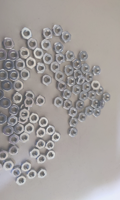nut: (6, 49, 19, 62), (2, 38, 15, 50), (20, 28, 33, 40), (19, 47, 31, 60), (9, 69, 21, 82), (3, 60, 15, 72), (26, 57, 37, 69), (42, 74, 53, 86), (24, 96, 35, 108), (8, 135, 20, 146), (21, 161, 32, 173), (37, 168, 48, 180), (28, 38, 38, 51), (21, 69, 31, 82), (35, 96, 46, 107), (42, 28, 53, 39), (19, 109, 30, 120), (43, 54, 54, 65), (4, 160, 15, 171), (9, 145, 20, 156), (51, 132, 62, 143), (63, 65, 74, 76), (91, 80, 102, 91), (34, 48, 44, 60), (16, 59, 26, 71), (2, 80, 12, 92), (53, 25, 63, 37), (8, 115, 18, 127), (29, 113, 39, 125), (39, 116, 49, 128), (3, 126, 15, 136), (12, 167, 22, 179), (17, 175, 27, 187), (27, 169, 37, 181), (54, 96, 64, 108), (0, 149, 9, 162), (37, 63, 47, 74), (12, 93, 22, 104), (0, 98, 10, 109), (42, 40, 52, 51), (29, 149, 40, 159), (46, 125, 56, 136), (62, 32, 72, 43), (78, 51, 89, 61), (50, 62, 60, 73), (57, 81, 67, 92), (63, 99, 73, 110), (75, 100, 85, 111), (72, 85, 82, 96), (81, 64, 91, 75), (37, 127, 46, 139), (56, 53, 65, 65), (55, 71, 64, 83), (14, 81, 24, 91), (20, 133, 30, 143), (36, 140, 46, 150), (25, 124, 35, 134), (54, 42, 64, 52), (72, 59, 82, 69), (68, 128, 78, 138), (68, 118, 78, 128), (10, 104, 19, 115), (37, 154, 46, 165), (66, 51, 75, 62), (103, 93, 112, 104), (74, 70, 83, 81), (0, 49, 7, 62), (25, 92, 34, 102), (20, 103, 29, 113), (19, 115, 28, 125), (78, 112, 87, 122), (80, 91, 89, 101), (83, 83, 92, 93), (63, 90, 72, 100), (96, 86, 106, 95), (0, 69, 8, 80), (86, 106, 94, 117), (93, 65, 101, 76), (0, 113, 7, 125), (47, 152, 56, 161), (91, 100, 100, 109), (67, 78, 76, 87), (70, 108, 78, 118), (94, 109, 102, 118), (89, 91, 97, 99), (48, 142, 55, 151), (15, 126, 24, 133), (85, 75, 94, 82), (77, 78, 85, 85), (0, 89, 5, 100), (0, 162, 3, 174)
